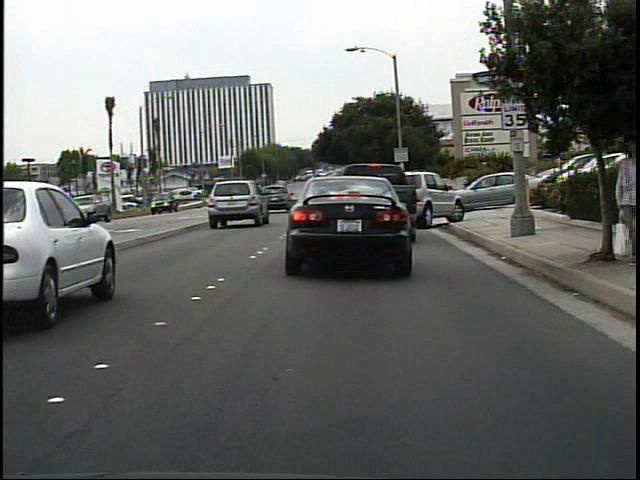person: (604, 134, 639, 270)
